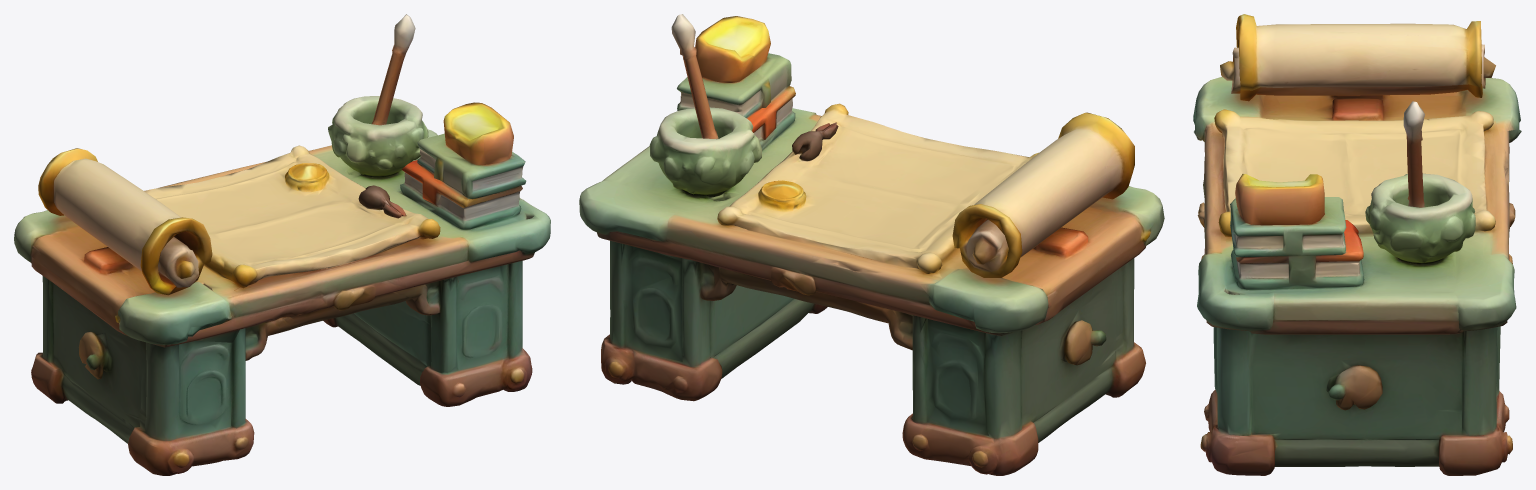
The model's file is drama_lead.glb.
The picture shows the model from 3 angles, left to right: view 1: azimuth 30°, elevation 25°; view 2: azimuth 150°, elevation 25°; view 3: azimuth 270°, elevation 25°; orthographic projection. The views are drawn at different scales.
Visible parts, largest first — view 1: tripo_node_9b244744-dcbc-450e-ae68-49f84d6d1a03; view 2: tripo_node_9b244744-dcbc-450e-ae68-49f84d6d1a03; view 3: tripo_node_9b244744-dcbc-450e-ae68-49f84d6d1a03.
Part boxes in pixels (x1,y1,x2,y2): tripo_node_9b244744-dcbc-450e-ae68-49f84d6d1a03: (14,14,550,475); tripo_node_9b244744-dcbc-450e-ae68-49f84d6d1a03: (579,14,1164,475); tripo_node_9b244744-dcbc-450e-ae68-49f84d6d1a03: (1193,14,1521,475).
Size of the model in its own units: 0.9808 by 0.7073 by 0.5924.
Materials: 1 (1 with a texture image).
